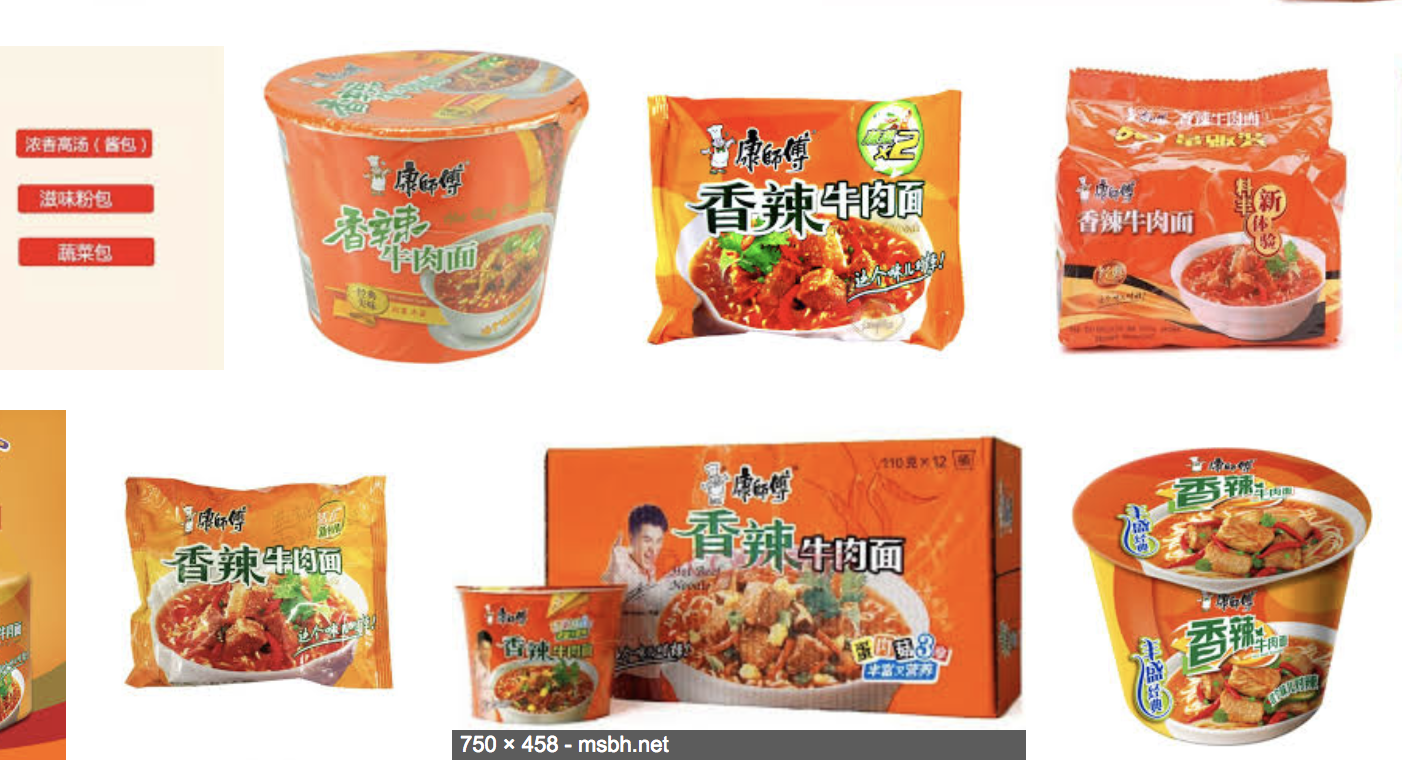xiangla: (263, 50, 589, 364), (1072, 447, 1374, 748), (458, 586, 628, 727)
